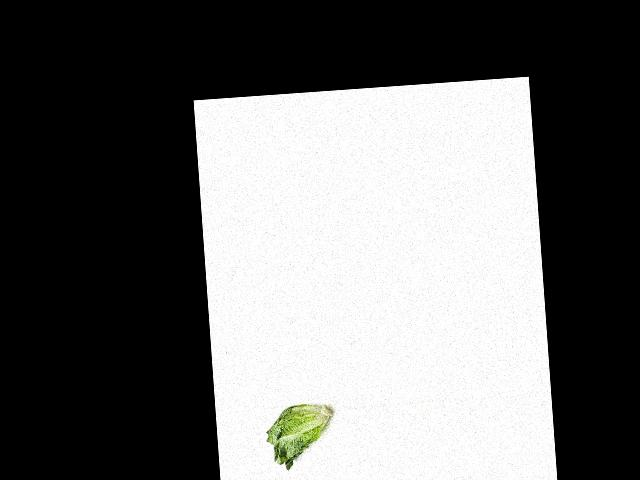lettuce: (261, 400, 334, 471)
